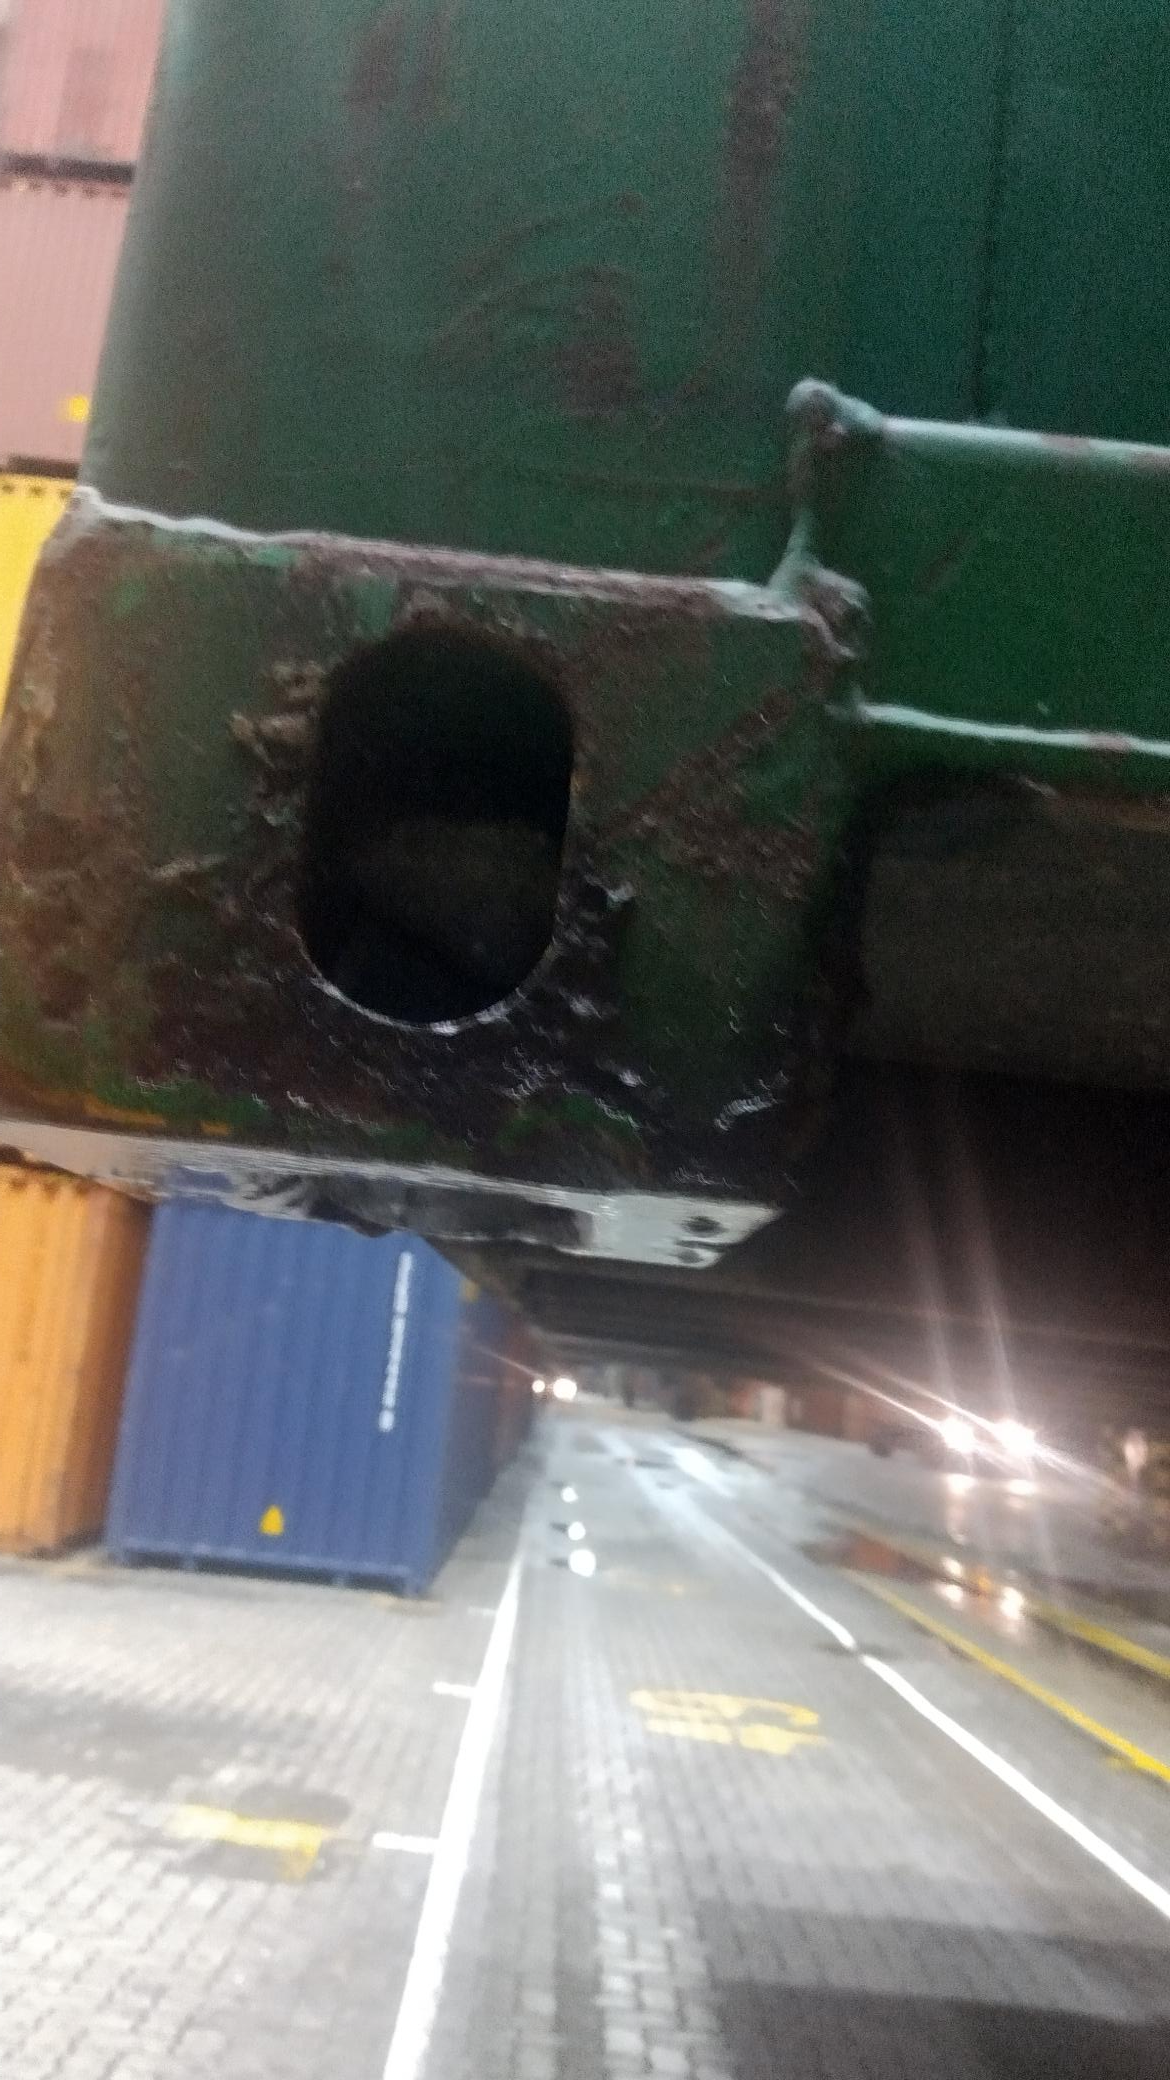corner_post: (1, 1, 1057, 1283)
